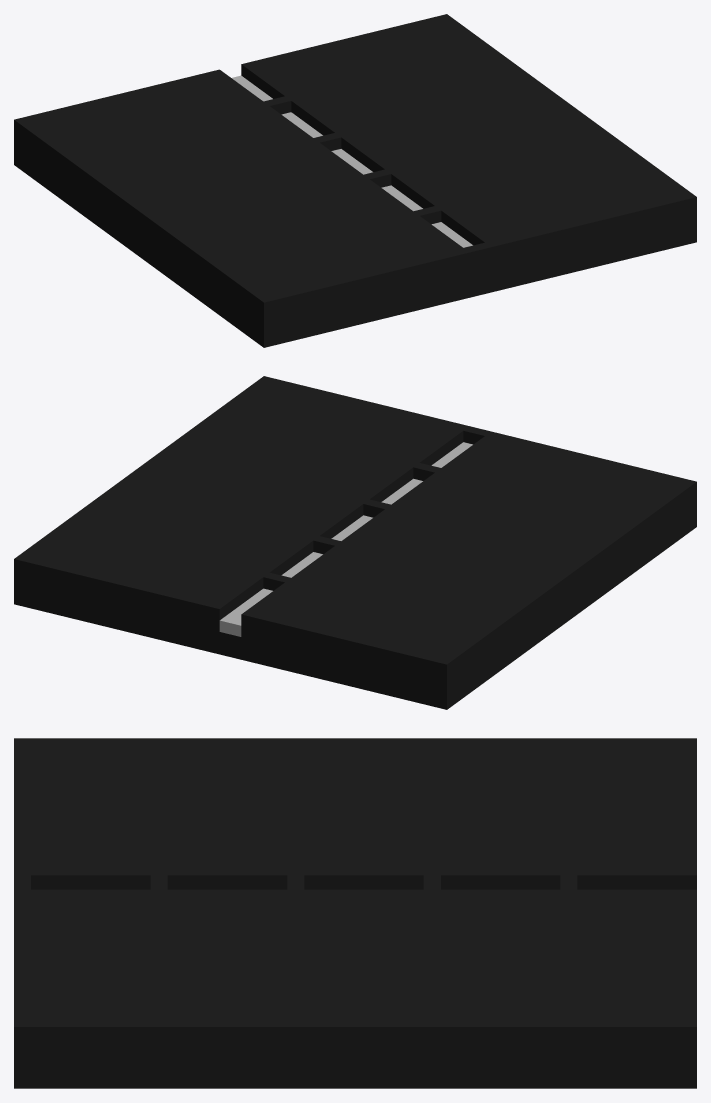
Rendered from Road_Segment.obj.
3 views of the same model, one above another, from view 1: azimuth 30°, elevation 25°; view 2: azimuth 150°, elevation 25°; view 3: azimuth 270°, elevation 25° (orthographic). The views are drawn at different scales.
Visible parts, largest first — view 1: Road_Segment; view 2: Road_Segment; view 3: Road_Segment.
Boxes of the visible parts, box(x1,y1,x2,y2) form: Road_Segment: box(14, 14, 696, 347); Road_Segment: box(14, 376, 696, 709); Road_Segment: box(14, 738, 696, 1088).
Size of the model in its own units: 40 by 4 by 40.
1 material, 1 textured.
